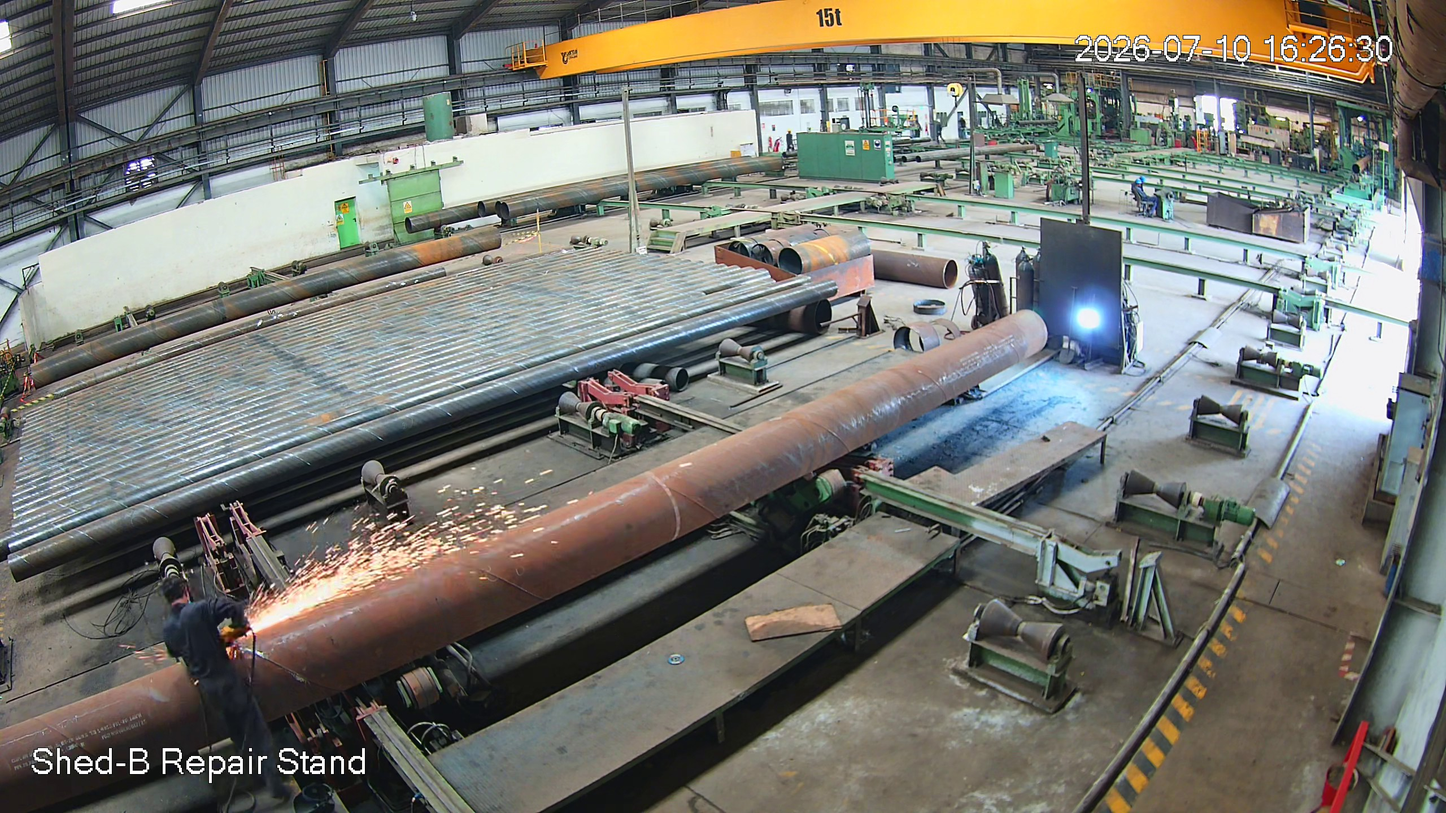Person: (157, 579, 281, 801)
